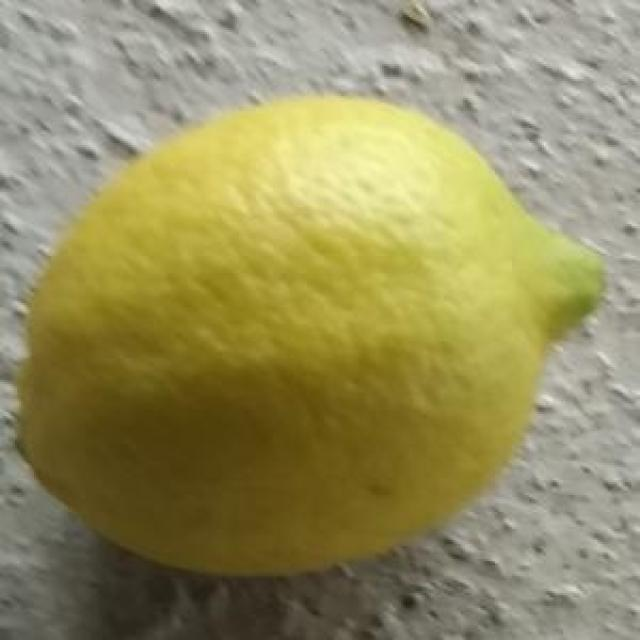lemon: (18, 89, 600, 572)
